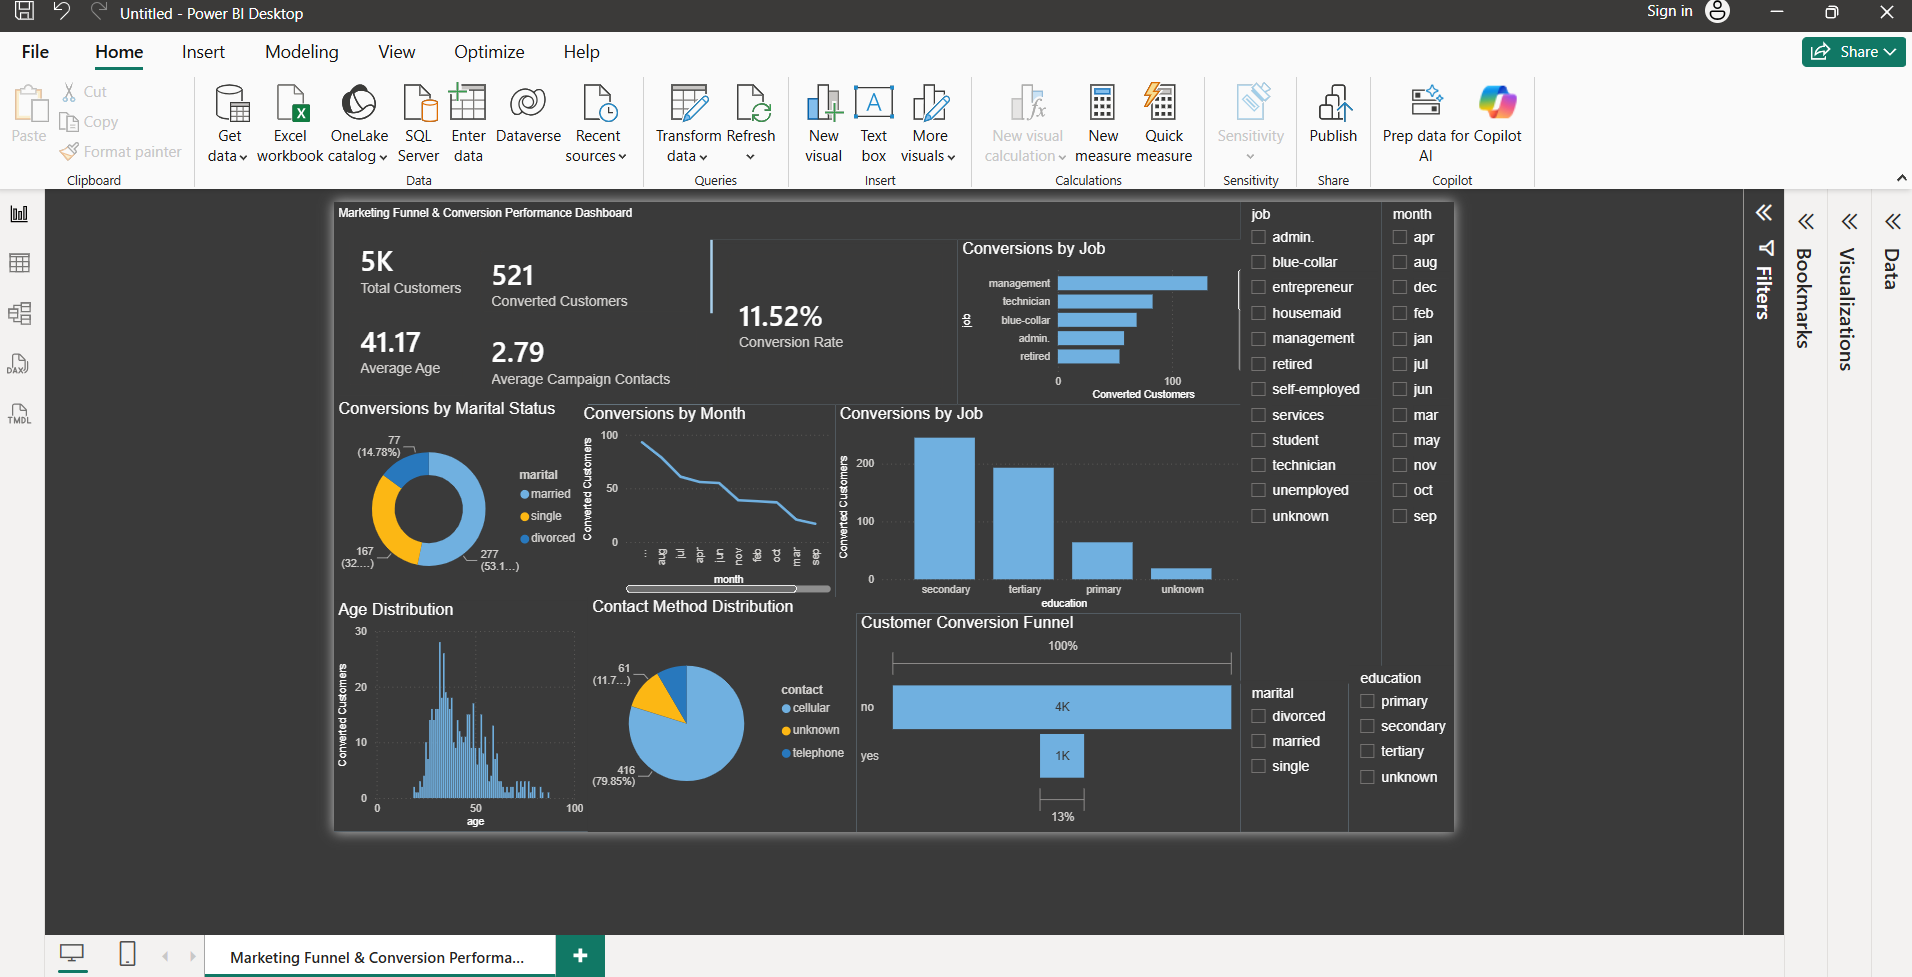

What the dashboard file says about the page in this screenshot:
{"tool":"powerbi","page":{"name":"Marketing Funnel & Conversion Performance Dashboard","canvas":[1280,720],"ordinal":0},"visuals":[{"type":"cardVisual","fields":{"Data":["bank.Total Customers"]},"box":[0,22.9,280,104.3],"z":0},{"type":"cardVisual","fields":{"Data":["bank.Converted Customers"]},"box":[150,38.6,280,104.3],"z":1000},{"type":"cardVisual","fields":{"Data":["bank.Conversion Rate"]},"box":[432.9,42.9,280,188.6],"z":2000},{"type":"cardVisual","fields":{"Data":["bank.Average Age"]},"box":[0,108.6,165.7,118.6],"z":3000},{"type":"cardVisual","fields":{"Data":["bank.Average Campaign Contacts"]},"box":[150,127.1,282.9,104.3],"z":4000},{"type":"funnel","title":"Customer Conversion Funnel","fields":{"Category":["bank.y"],"Y":["bank.Total Customers"]},"box":[597.1,470,438.6,250],"z":5000},{"type":"clusteredBarChart","title":"Conversions by Job","fields":{"Category":["bank.job"],"Y":["bank.Converted Customers"]},"box":[712.9,42.9,334.3,188.6],"z":6000},{"type":"clusteredColumnChart","title":"Conversions by Job","fields":{"Category":["bank.education"],"Y":["bank.Converted Customers"]},"box":[572.9,231.4,474.3,238.6],"z":7000},{"type":"donutChart","title":"Conversions by Marital Status","fields":{"Category":["bank.marital"],"Y":["bank.Converted Customers"]},"box":[0,225.7,290,230],"z":8000},{"type":"lineChart","title":"Conversions by Month","fields":{"Category":["bank.month"],"Y":["bank.Converted Customers"]},"box":[280,231.4,292.9,220],"z":9000},{"type":"clusteredColumnChart","title":"Age Distribution","fields":{"Category":["bank.age"],"Y":["bank.Converted Customers"]},"box":[0,455.7,290,264.3],"z":10000},{"type":"pieChart","title":"Contact Method Distribution","fields":{"Category":["bank.contact"],"Y":["bank.Converted Customers"]},"box":[290,451.4,307.1,268.6],"z":11000},{"type":"slicer","fields":{"Values":["bank.month"]},"box":[1197.1,0,82.9,530],"z":12000},{"type":"slicer","fields":{"Values":["bank.job"]},"box":[1035.7,0,161.4,550],"z":13000},{"type":"slicer","fields":{"Values":["bank.education"]},"box":[1160,530,120,190],"z":14000},{"type":"slicer","fields":{"Values":["bank.marital"]},"box":[1035.7,547.1,124.3,172.9],"z":15000},{"type":"textbox","box":[0,0,1035.7,42.9],"z":16000}]}

Visuals, with their boxes on the page's 1280x720 design canvas (x1, y1, x2, y2). These are canvas units, not pixel positions in the 1912x977 screenshot, which may show the page scaled, cropped or inside an application window:
cardVisual - bank.Total Customers: (left=0, top=23, right=280, bottom=127)
cardVisual - bank.Converted Customers: (left=150, top=39, right=430, bottom=143)
cardVisual - bank.Conversion Rate: (left=433, top=43, right=713, bottom=232)
cardVisual - bank.Average Age: (left=0, top=109, right=166, bottom=227)
cardVisual - bank.Average Campaign Contacts: (left=150, top=127, right=433, bottom=231)
"Customer Conversion Funnel" funnel: (left=597, top=470, right=1036, bottom=720)
"Conversions by Job" clusteredBarChart: (left=713, top=43, right=1047, bottom=232)
"Conversions by Job" clusteredColumnChart: (left=573, top=231, right=1047, bottom=470)
"Conversions by Marital Status" donutChart: (left=0, top=226, right=290, bottom=456)
"Conversions by Month" lineChart: (left=280, top=231, right=573, bottom=451)
"Age Distribution" clusteredColumnChart: (left=0, top=456, right=290, bottom=720)
"Contact Method Distribution" pieChart: (left=290, top=451, right=597, bottom=720)
slicer - bank.month: (left=1197, top=0, right=1280, bottom=530)
slicer - bank.job: (left=1036, top=0, right=1197, bottom=550)
slicer - bank.education: (left=1160, top=530, right=1280, bottom=720)
slicer - bank.marital: (left=1036, top=547, right=1160, bottom=720)
textbox: (left=0, top=0, right=1036, bottom=43)
